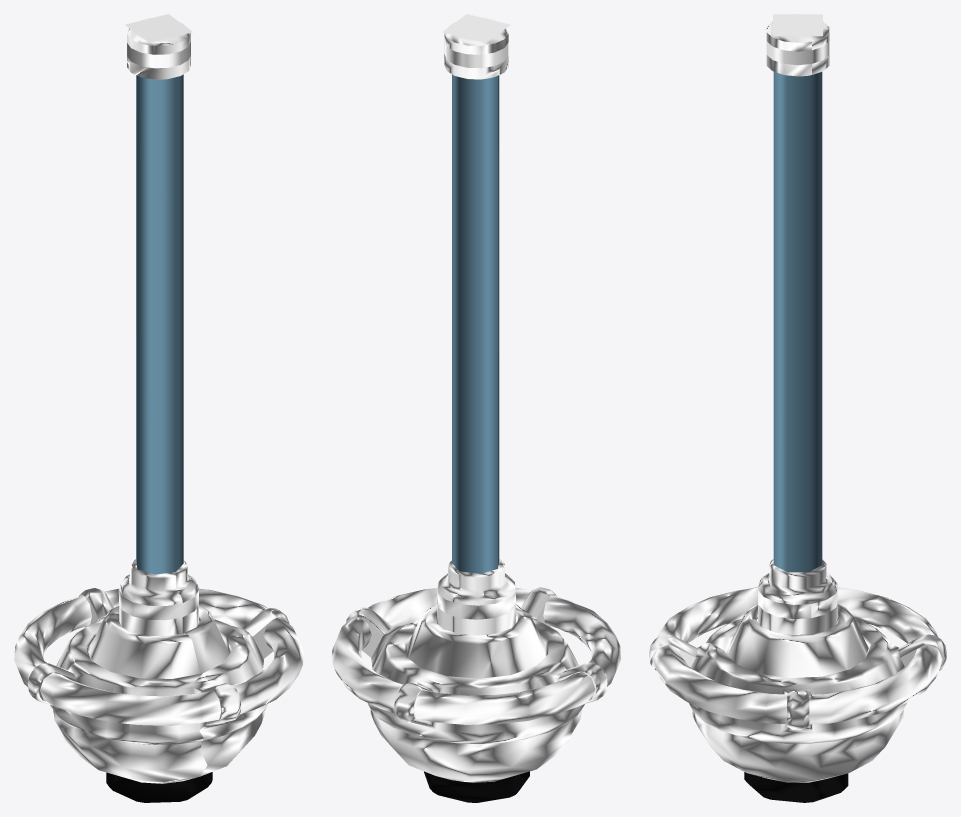
The model's file is light_work-light_1_a.glb.
3 views of the same model, side by side, from view 1: azimuth 30°, elevation 25°; view 2: azimuth 150°, elevation 25°; view 3: azimuth 270°, elevation 25° (orthographic).
Bounding box in the file's own units: 0.5464 × 1.53 × 0.5464.
